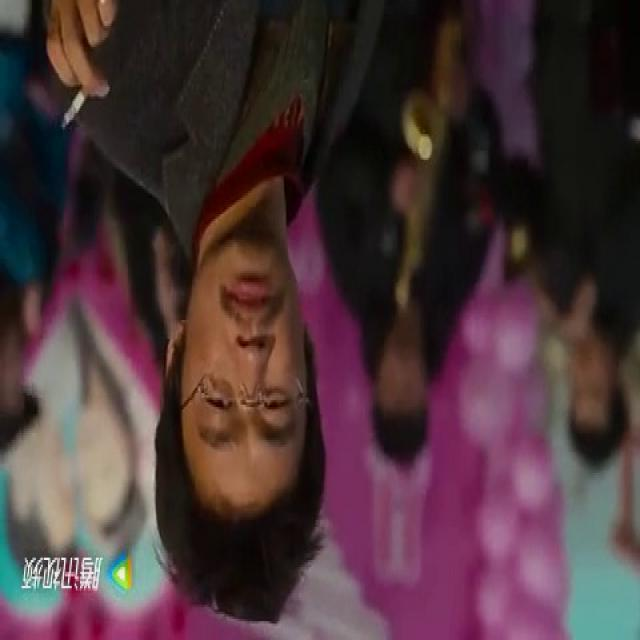cigarette: (57, 80, 92, 136)
